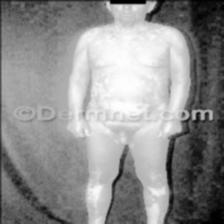Non-Cancerous Skin Condition: (82, 27, 179, 108), (135, 168, 167, 224), (82, 166, 110, 224), (82, 174, 109, 224)
